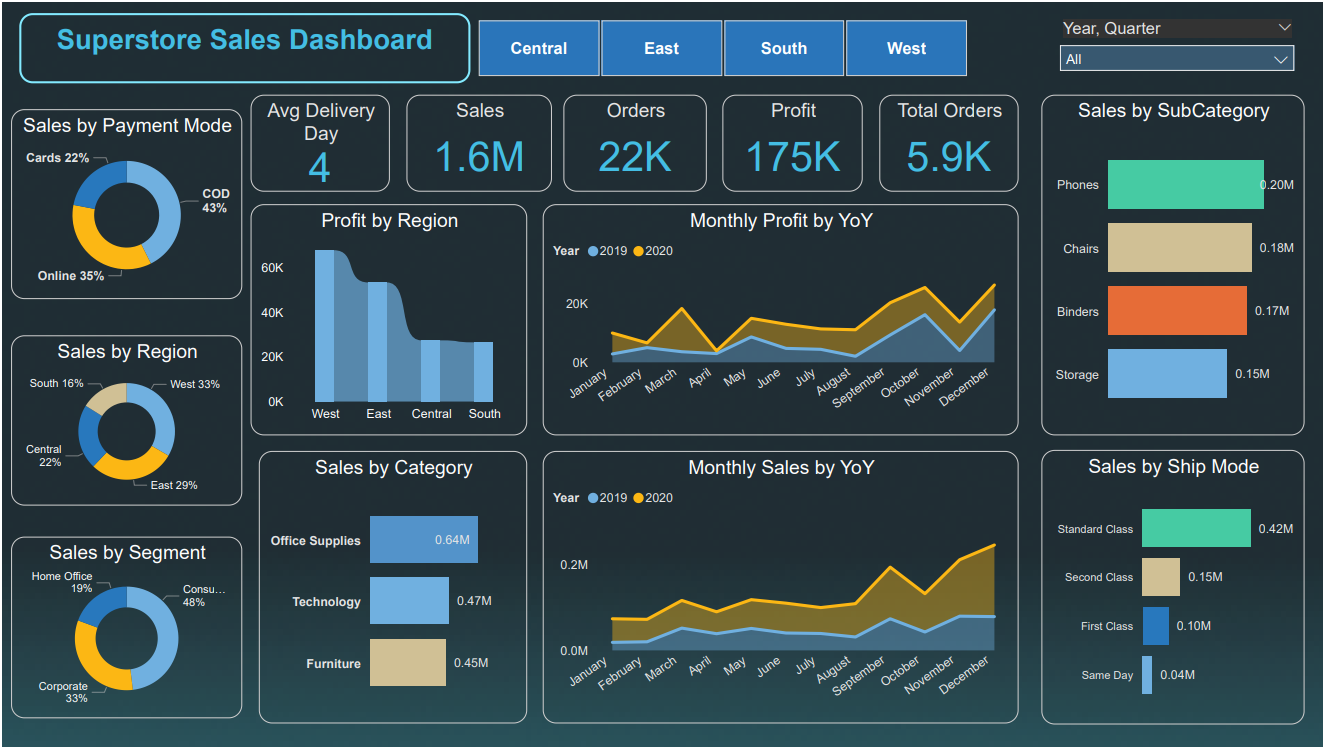

The page's visual inventory and layout, read from the dashboard file:
{"tool":"powerbi","page":{"name":"Main","canvas":[1280,720],"ordinal":0},"visuals":[{"type":"clusteredBarChart","title":"Sales by Category","fields":{"Category":["SuperStore_Sales_Dataset.Category"],"Y":["Sum(SuperStore_Sales_Dataset.Sales)"]},"box":[248.4,433.6,259.3,264.8],"z":0},{"type":"clusteredBarChart","title":"Sales by SubCategory","fields":{"Y":["Sum(SuperStore_Sales_Dataset.Sales)"],"Category":["SuperStore_Sales_Dataset.Sub-Category"]},"box":[1006.2,89.3,254.6,329.4],"z":1000},{"type":"clusteredBarChart","title":"Sales by Ship Mode","fields":{"Y":["Sum(SuperStore_Sales_Dataset.Sales)"],"Category":["SuperStore_Sales_Dataset.Ship Mode"]},"box":[1006.2,433.1,254.6,265.4],"z":2000},{"type":"stackedAreaChart","title":"Monthly Profit by YoY","fields":{"Category":["SuperStore_Sales_Dataset.Order Date.Variation.Date Hierarchy.Month","SuperStore_Sales_Dataset.Order Date.Variation.Date Hierarchy.Day"],"Series":["SuperStore_Sales_Dataset.Order Date.Variation.Date Hierarchy.Year"],"Y":["Sum(SuperStore_Sales_Dataset.Profit)"]},"box":[522.8,194.9,461.1,223.7],"z":3000},{"type":"stackedAreaChart","title":"Monthly Sales by YoY","fields":{"Category":["SuperStore_Sales_Dataset.Order Date.Variation.Date Hierarchy.Month","SuperStore_Sales_Dataset.Order Date.Variation.Date Hierarchy.Day"],"Y":["Sum(SuperStore_Sales_Dataset.Sales)"],"Series":["SuperStore_Sales_Dataset.Order Date.Variation.Date Hierarchy.Year"]},"box":[522.8,433.6,461.1,264.8],"z":4000},{"type":"donutChart","title":"Sales by Segment","fields":{"Category":["SuperStore_Sales_Dataset.Segment"],"Y":["Sum(SuperStore_Sales_Dataset.Sales)"]},"box":[8.2,517.3,223.7,175.6],"z":5000},{"type":"donutChart","title":"Sales by Payment Mode","fields":{"Y":["Sum(SuperStore_Sales_Dataset.Sales)"],"Category":["SuperStore_Sales_Dataset.Payment Mode"]},"box":[8.2,102.9,223.7,183.9],"z":6000},{"type":"donutChart","title":"Sales by Region","fields":{"Y":["Sum(SuperStore_Sales_Dataset.Sales)"],"Category":["SuperStore_Sales_Dataset.Region"]},"box":[8.2,322.5,223.7,164.7],"z":7000},{"type":"slicer","fields":{"Values":["SuperStore_Sales_Dataset.Region"]},"box":[435,9.6,522.8,68.6],"z":8000},{"type":"textbox","box":[16.5,9.6,436.4,68.6],"z":9000},{"type":"ribbonChart","title":"Profit by Region","fields":{"Category":["SuperStore_Sales_Dataset.Region"],"Y":["Sum(SuperStore_Sales_Dataset.Profit)"]},"box":[240.1,194.9,267.6,223.7],"z":10000},{"type":"card","title":"Sales","fields":{"Values":["Sum(SuperStore_Sales_Dataset.Sales)"]},"box":[391.1,89.2,141.3,93.3],"z":11000},{"type":"card","title":"Orders","fields":{"Values":["Sum(SuperStore_Sales_Dataset.Quantity)"]},"box":[543.4,89.2,138.6,93.3],"z":12000},{"type":"card","title":"Profit","fields":{"Values":["Sum(SuperStore_Sales_Dataset.Profit)"]},"box":[697.1,89.2,135.8,93.3],"z":13000},{"type":"card","title":"Total Orders","fields":{"Values":["CountNonNull(SuperStore_Sales_Dataset.Order ID)"]},"box":[849.4,89.2,134.5,93.3],"z":14000},{"type":"card","title":"Avg Delivery Day","fields":{"Values":["Avg(SuperStore_Sales_Dataset.AvgDelivery)"]},"box":[240.1,89.2,134.5,93.3],"z":15000},{"type":"slicer","fields":{"Values":["SuperStore_Sales_Dataset.Order Date.Variation.Date Hierarchy.Year","SuperStore_Sales_Dataset.Order Date.Variation.Date Hierarchy.Quarter"]},"box":[1014.1,11,247,67.2],"z":16000}]}

Visuals, with their boxes in screenshot pixels (x1, y1, x2, y2), scaled from the page's 1280x720 canvas onto the 1323x747 screenshot:
"Sales by Category" clusteredBarChart: {"left": 257, "top": 450, "right": 525, "bottom": 725}
"Sales by SubCategory" clusteredBarChart: {"left": 1040, "top": 93, "right": 1303, "bottom": 434}
"Sales by Ship Mode" clusteredBarChart: {"left": 1040, "top": 449, "right": 1303, "bottom": 725}
"Monthly Profit by YoY" stackedAreaChart: {"left": 540, "top": 202, "right": 1017, "bottom": 434}
"Monthly Sales by YoY" stackedAreaChart: {"left": 540, "top": 450, "right": 1017, "bottom": 725}
"Sales by Segment" donutChart: {"left": 8, "top": 537, "right": 240, "bottom": 719}
"Sales by Payment Mode" donutChart: {"left": 8, "top": 107, "right": 240, "bottom": 298}
"Sales by Region" donutChart: {"left": 8, "top": 335, "right": 240, "bottom": 505}
slicer - SuperStore_Sales_Dataset.Region: {"left": 450, "top": 10, "right": 990, "bottom": 81}
textbox: {"left": 17, "top": 10, "right": 468, "bottom": 81}
"Profit by Region" ribbonChart: {"left": 248, "top": 202, "right": 525, "bottom": 434}
"Sales" card: {"left": 404, "top": 93, "right": 550, "bottom": 189}
"Orders" card: {"left": 562, "top": 93, "right": 705, "bottom": 189}
"Profit" card: {"left": 721, "top": 93, "right": 861, "bottom": 189}
"Total Orders" card: {"left": 878, "top": 93, "right": 1017, "bottom": 189}
"Avg Delivery Day" card: {"left": 248, "top": 93, "right": 387, "bottom": 189}
slicer - SuperStore_Sales_Dataset.Order Date.Variation.Date Hierarchy.Year x SuperStore_Sales_Dataset.Order Date.Variation.Date Hierarchy.Quarter: {"left": 1048, "top": 11, "right": 1303, "bottom": 81}
